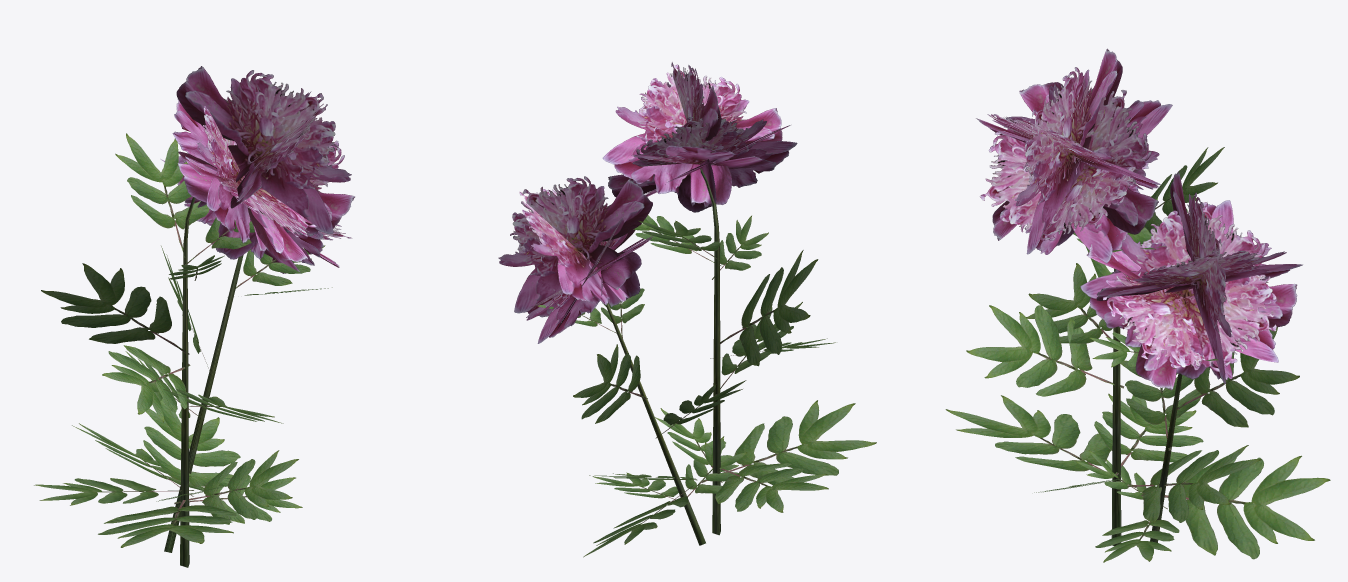
Rendered from tree_h.FBX.
The picture shows the model from 3 angles, left to right: view 1: azimuth 30°, elevation 25°; view 2: azimuth 150°, elevation 25°; view 3: azimuth 270°, elevation 25°; orthographic projection. The views are drawn at different scales.
Parts seen in each view (by area): view 1: tree_h; view 2: tree_h; view 3: tree_h.
Boxes of the visible parts, bbox=[...] form: tree_h: bbox=[34, 66, 354, 567]; tree_h: bbox=[498, 62, 876, 557]; tree_h: bbox=[945, 48, 1330, 562].
Bounding box in the file's own units: 1.24 × 1.67 × 1.1.
Materials: 1 (1 with a texture image).
